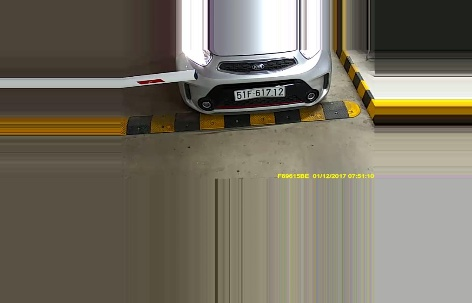plate: (231, 84, 284, 102)
